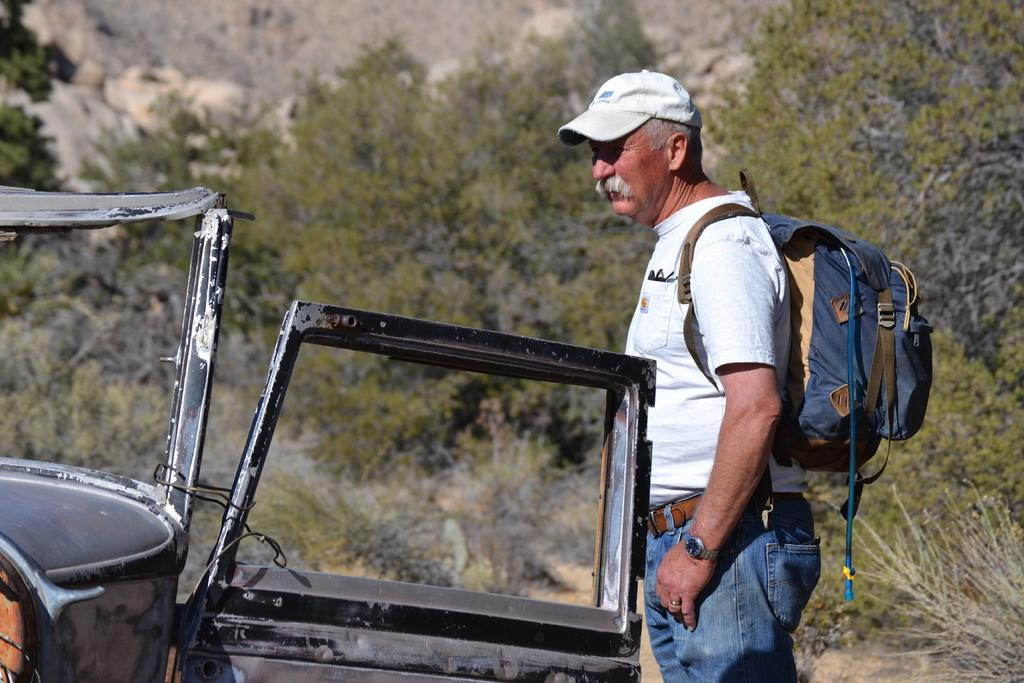Luggage-and-bags: (676, 170, 934, 602)
